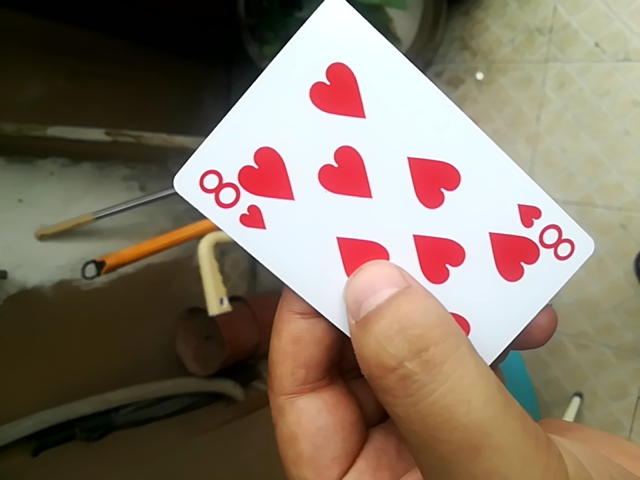hx 8: (164, 8, 595, 374)
